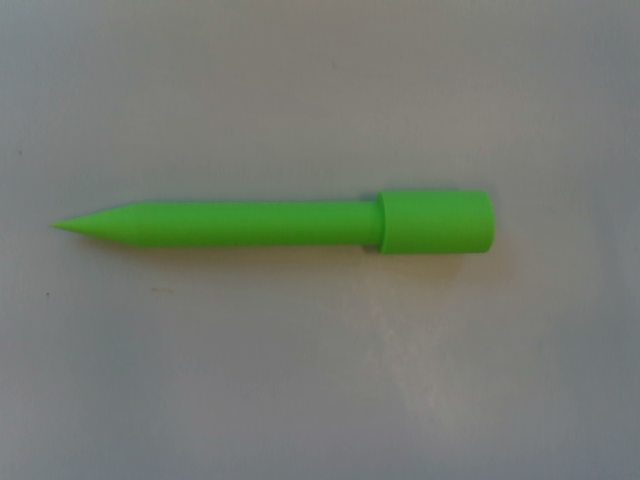Probe: (40, 182, 500, 260)
